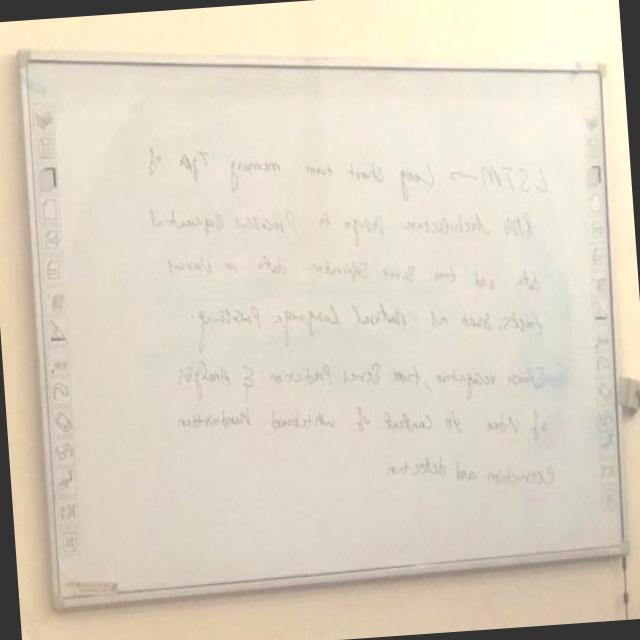White-board: (22, 60, 624, 602)
